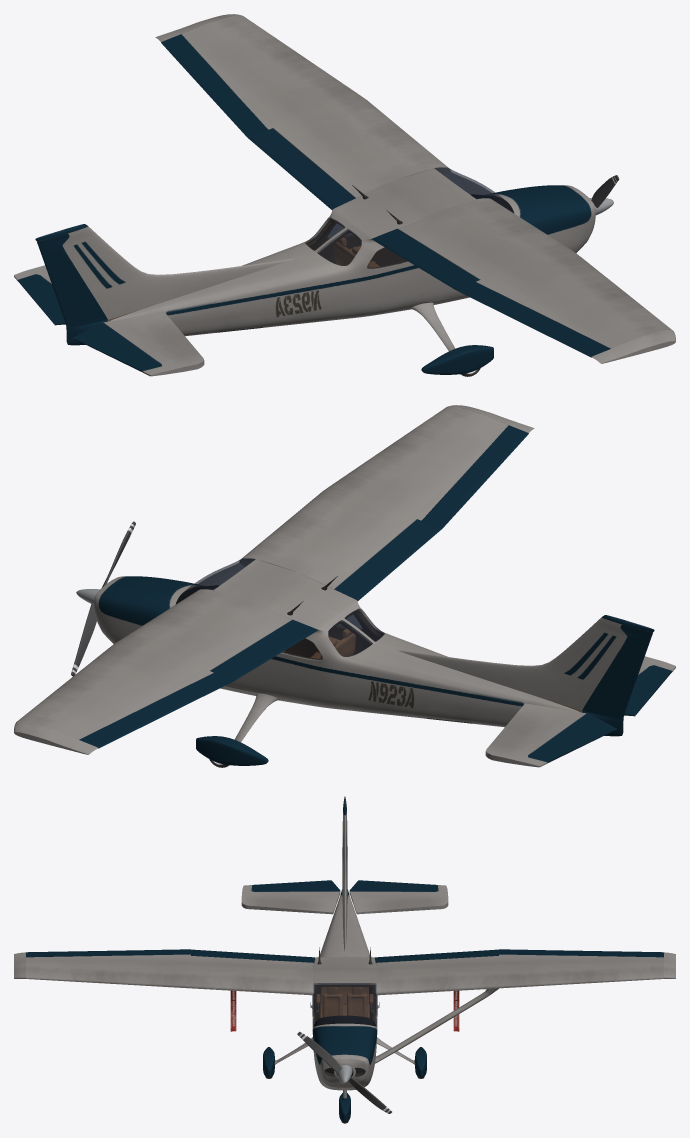
File: cessna.glb
3 views of the same model, one above another, from view 1: azimuth 30°, elevation 25°; view 2: azimuth 150°, elevation 25°; view 3: azimuth 270°, elevation 25° (orthographic). The views are drawn at different scales.
Parts seen in each view (by area): view 1: wing, fuselage, tail, windows, elevator, main_gear, interior, door_R, propeller; view 2: wing, fuselage, tail, windows, elevator, main_gear, propeller, interior, door_L; view 3: wing, fuselage, tail, windows, interior, elevator, struts, cowling, propeller, main_gear.
Boxes of the visible parts, left/top/right/bottom form: wing: left=155, top=14, right=675, bottom=363; fuselage: left=62, top=168, right=591, bottom=336; tail: left=14, top=224, right=204, bottom=376; windows: left=305, top=167, right=513, bottom=268; elevator: left=17, top=274, right=161, bottom=372; main_gear: left=410, top=302, right=493, bottom=376; interior: left=334, top=194, right=513, bottom=267; door_R: left=423, top=271, right=464, bottom=301; propeller: left=589, top=175, right=619, bottom=215; wing: left=14, top=405, right=534, bottom=754; fuselage: left=98, top=559, right=627, bottom=727; tail: left=485, top=615, right=675, bottom=767; windows: left=176, top=558, right=384, bottom=659; elevator: left=528, top=665, right=672, bottom=763; main_gear: left=196, top=693, right=279, bottom=767; propeller: left=71, top=521, right=135, bottom=676; interior: left=176, top=585, right=355, bottom=658; door_L: left=225, top=662, right=266, bottom=692; wing: left=14, top=949, right=675, bottom=995; fuselage: left=312, top=811, right=377, bottom=1090; tail: left=241, top=796, right=448, bottom=914; windows: left=312, top=983, right=377, bottom=1026; interior: left=314, top=987, right=375, bottom=1026; elevator: left=251, top=880, right=438, bottom=893; struts: left=230, top=988, right=498, bottom=1063; cowling: left=320, top=1054, right=369, bottom=1087; propeller: left=297, top=1031, right=391, bottom=1113; main_gear: left=263, top=1037, right=426, bottom=1078.
Bounding box in the file's own units: 7.48 × 2.43 × 10.
26 materials, 11 textured.
